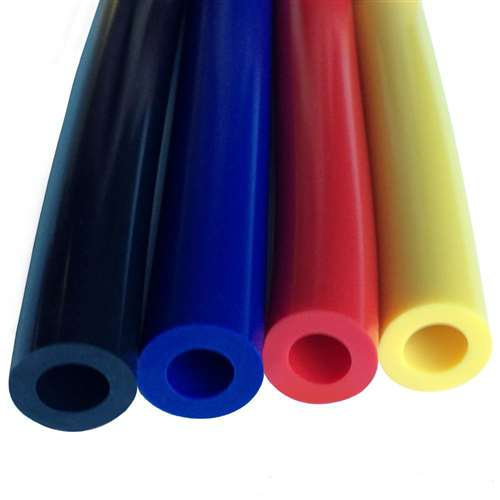Nonrec_Tangler: (23, 1, 488, 432)
